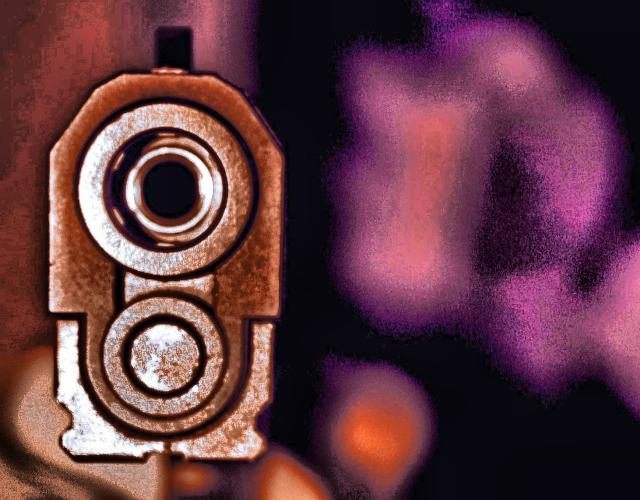pistol: (46, 64, 288, 462)
